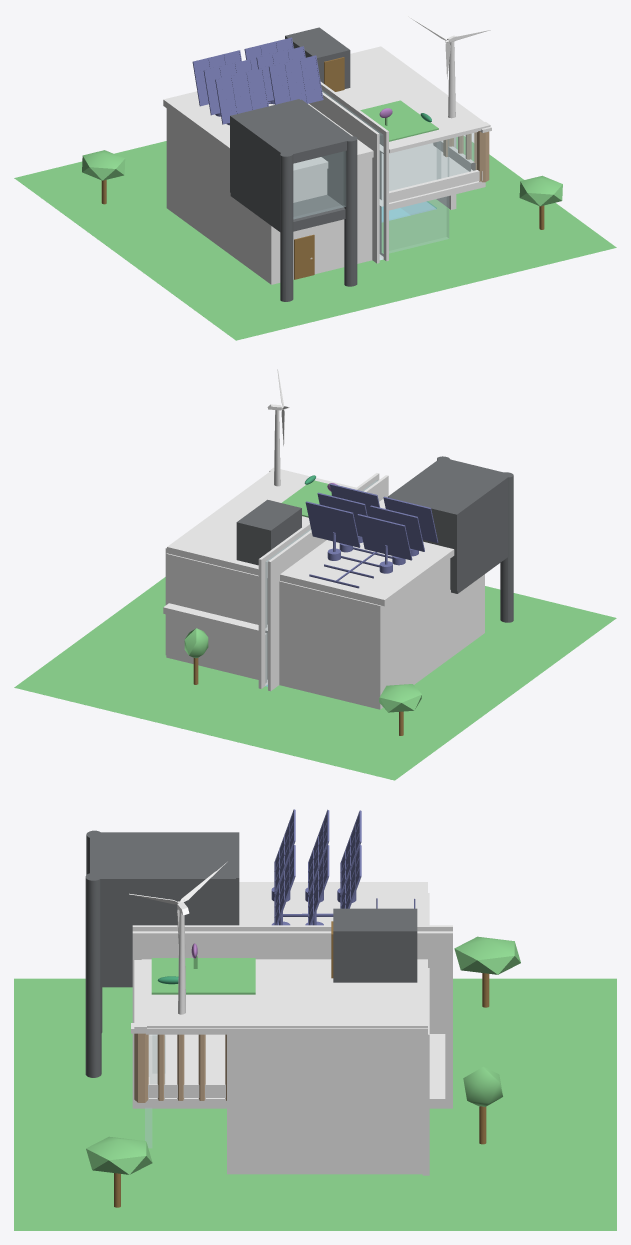
File: t12_-_habitacao_sustentavel.glb
3 views of the same model, one above another, from view 1: azimuth 30°, elevation 25°; view 2: azimuth 150°, elevation 25°; view 3: azimuth 270°, elevation 25° (orthographic). The views are drawn at different scales.
Visible parts, largest first — view 1: Object_12, Object_8, Object_10, Object_2, Object_11, Object_13, Object_6, Object_3, Object_5; view 2: Object_8, Object_12, Object_10, Object_11; view 3: Object_12, Object_8, Object_10, Object_11, Object_6, Object_13, Object_2.
Boxes of the visible parts, x1=… form: Object_12: x1=14, y1=100, x2=616, y2=340; Object_8: x1=163, y1=14, x2=491, y2=284; Object_10: x1=230, y1=27, x2=357, y2=301; Object_2: x1=293, y1=132, x2=476, y2=253; Object_11: x1=192, y1=37, x2=323, y2=125; Object_13: x1=101, y1=57, x2=544, y2=279; Object_6: x1=443, y1=131, x2=489, y2=182; Object_3: x1=322, y1=90, x2=383, y2=259; Object_5: x1=382, y1=201, x2=436, y2=221; Object_8: x1=163, y1=369, x2=484, y2=709; Object_12: x1=14, y1=480, x2=616, y2=780; Object_10: x1=236, y1=456, x2=513, y2=622; Object_11: x1=305, y1=483, x2=438, y2=588; Object_12: x1=14, y1=936, x2=616, y2=1230; Object_8: x1=129, y1=861, x2=452, y2=1175; Object_10: x1=85, y1=830, x2=417, y2=1077; Object_11: x1=271, y1=809, x2=415, y2=925; Object_6: x1=134, y1=1033, x2=226, y2=1102; Object_13: x1=114, y1=921, x2=489, y2=1207; Object_2: x1=145, y1=1035, x2=165, y2=1147.
Size of the model in its own units: 299 by 175 by 302.
